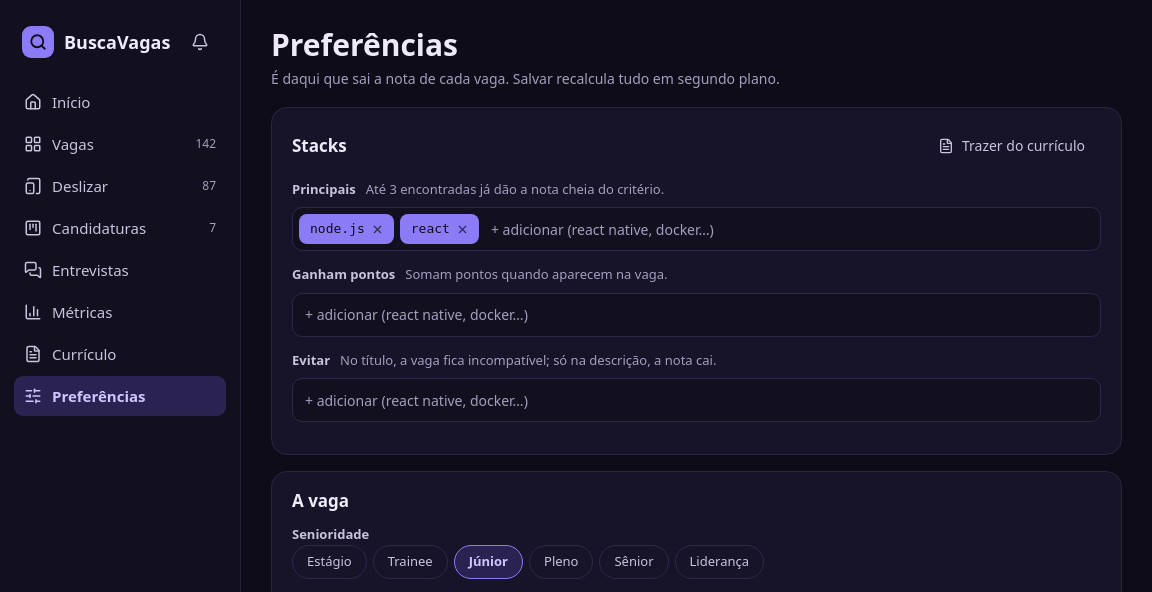
Preferências › avisa quando o detector não conhece a tecnologia
The image size is (1152, 592).
Type "cobol" into the dropdown named "Adicionar em Ganham pontos".
click(696, 314); type("cobol")  # box [299,300,1094,330]
Then press Enter
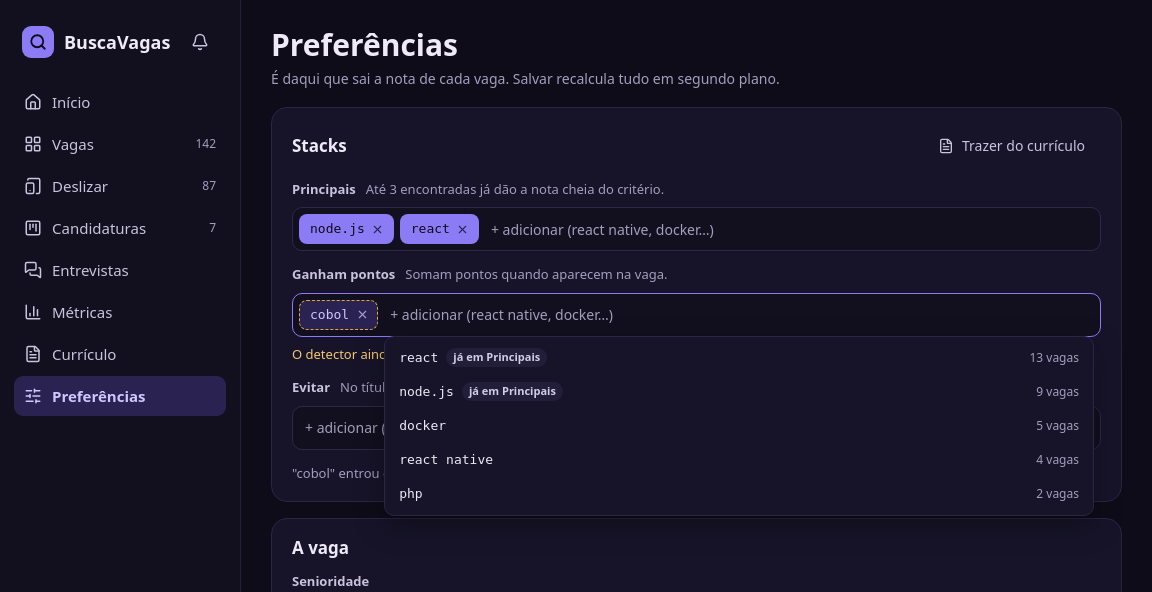
Expected: the text "O detector ainda não conhece cobol: nenhuma vaga vai citar esse nome" is shown, [292,344,822,362]
